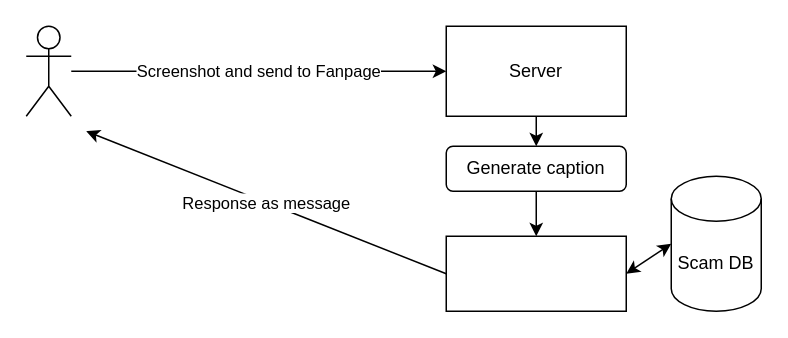
Image size: 788x338. Some labels were removed from this diagram. The centre of each missing label's shape, as x and y in pixels:
"LLM" goes at point 535,273.
"User" goes at point 48,70.
